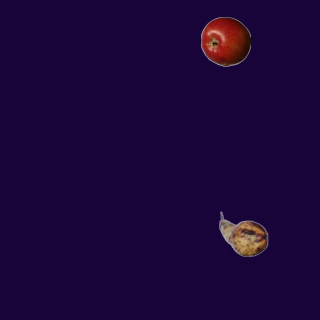Apple Braeburn: (200, 16, 250, 66)
Pear Abate: (218, 209, 268, 259)
